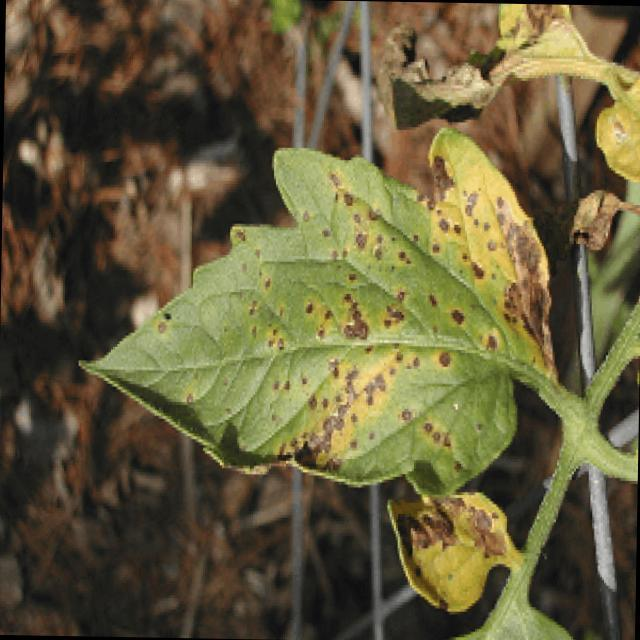Septoria: (166, 160, 527, 480)
